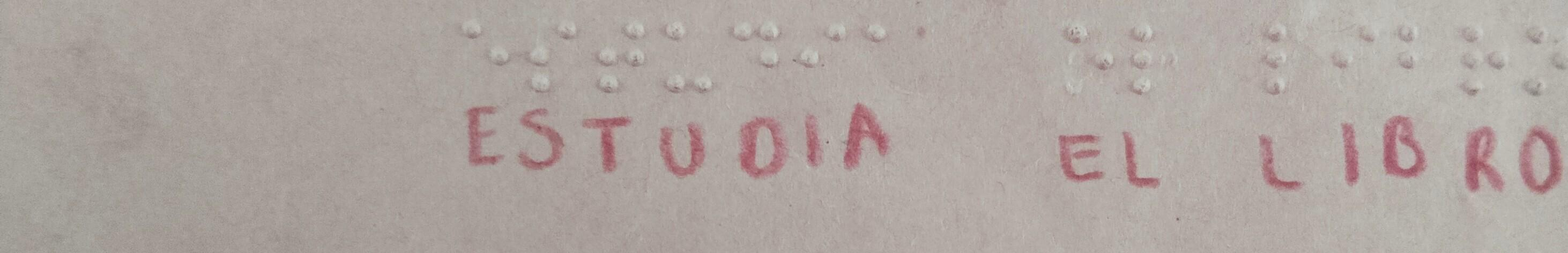a: (852, 5, 899, 100)
b: (1381, 13, 1431, 89)
d: (717, 9, 784, 102)
e: (1056, 2, 1115, 105), (452, 9, 513, 100)
i: (788, 2, 851, 104), (1319, 13, 1376, 98)
l: (1113, 2, 1174, 116), (1254, 14, 1308, 111)
o: (1519, 16, 1565, 105)
r: (1440, 14, 1515, 109)
s: (513, 11, 575, 98)
t: (575, 4, 649, 100)
u: (649, 4, 717, 107)
